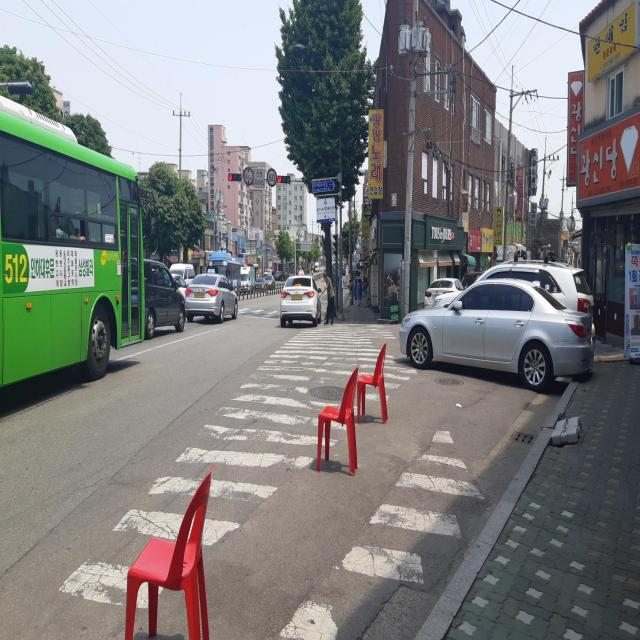횡단보도: (55, 316, 488, 640)
